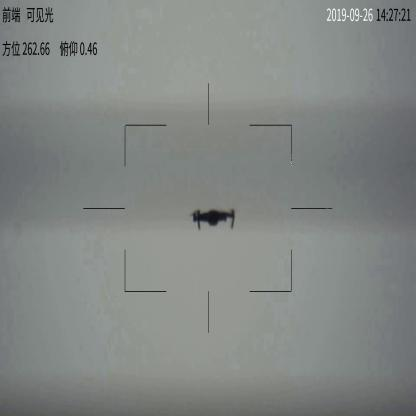uav: (187, 206, 236, 232)
